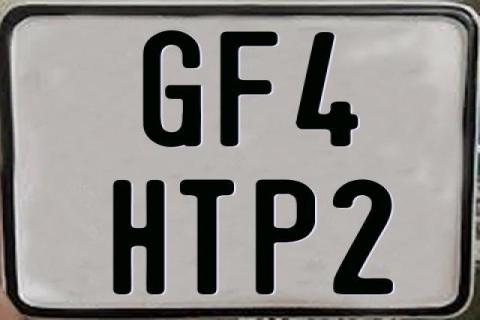0: (293, 31, 361, 147), (331, 177, 396, 297)
F: (218, 31, 278, 149)
G: (141, 29, 199, 149)
H: (111, 179, 168, 297)
P: (254, 178, 313, 294)
T: (178, 177, 234, 293)
